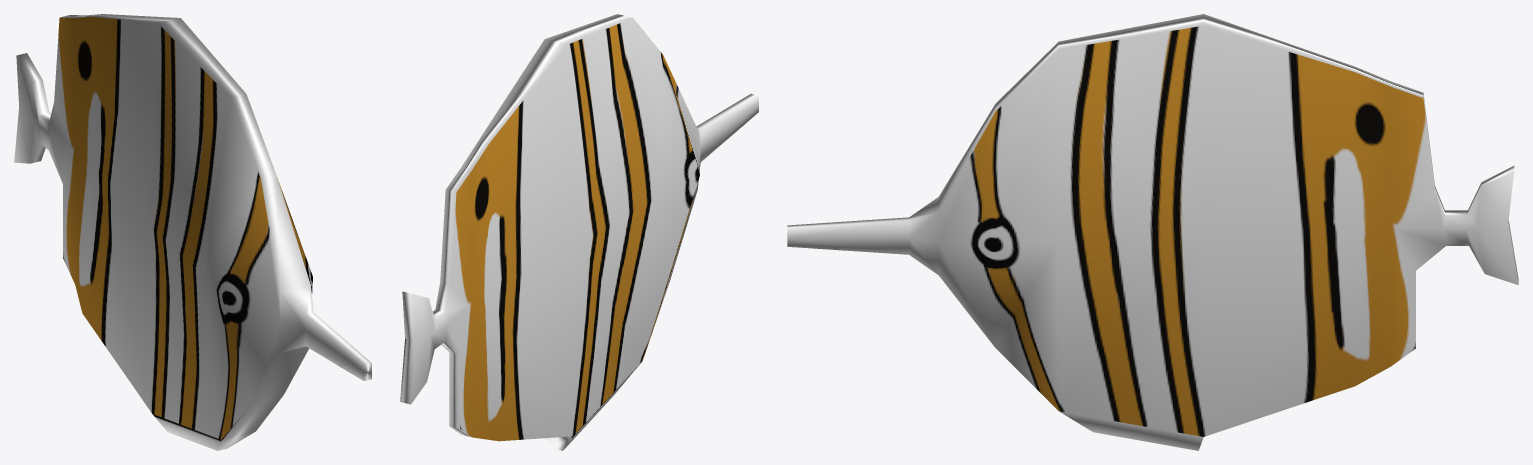
File: Fish01.fbx
3 renders of one model, left to right at view 1: azimuth 30°, elevation 25°; view 2: azimuth 150°, elevation 25°; view 3: azimuth 270°, elevation 25°, orthographic. The views are drawn at different scales.
Visible parts, largest first — view 1: Fish01; view 2: Fish01; view 3: Fish01.
Boxes of the visible parts, x1,y1,x2,y2 form: Fish01: (14,14,371,450); Fish01: (400,14,758,450); Fish01: (787,14,1518,450).
Size of the model in its own units: 0.2005 by 0.8815 by 1.36.
